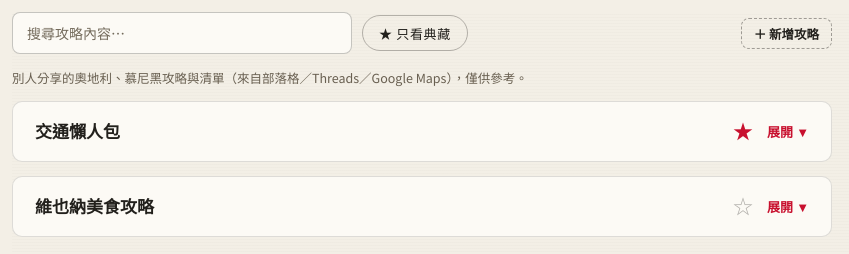
Guides 典藏 › 只看典藏與搜尋取交集，無交集顯示空狀態
The width and height of the screenshot is (849, 254).
Click the button "★ 只看典藏" at [415, 33], box 362,15 -> 468,51
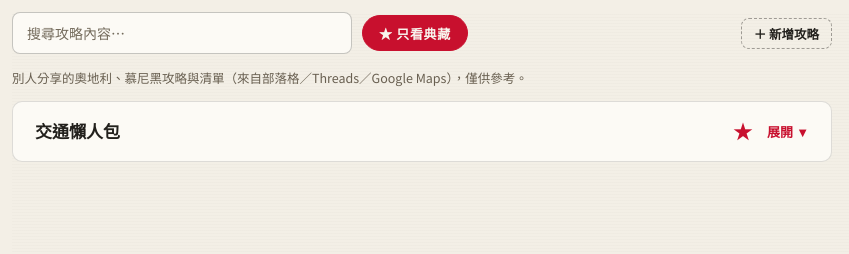
// 「薩赫蛋糕」只命中未典藏的 g1 → 交集為空
Type "薩赫蛋糕" into the field with placeholder "搜尋攻略內容…" at [182, 33], box 12,12 -> 352,54
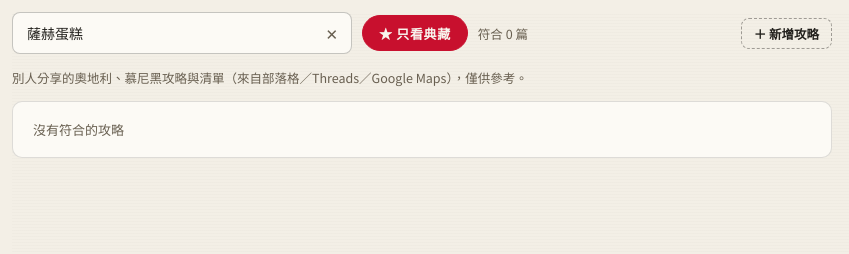
Now the text "沒有符合的攻略" is shown, box 12,101 -> 832,158
